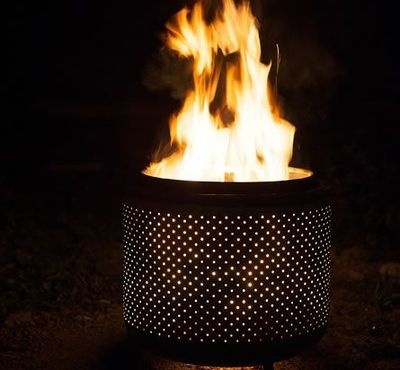fire: (152, 0, 298, 189)
